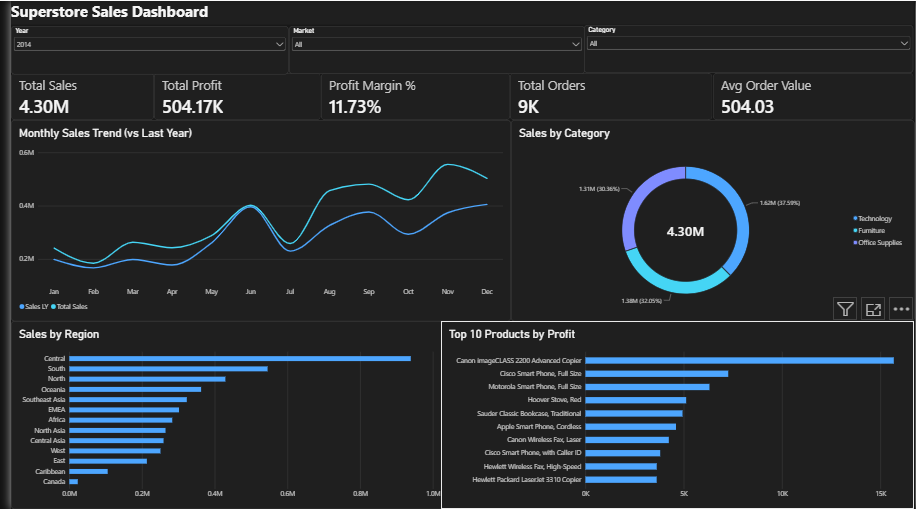

The dashboard page shown, as its layout file describes it:
{"tool":"powerbi","page":{"name":"Page 1","canvas":[1920,1080],"ordinal":0},"visuals":[{"type":"cardVisual","fields":{"Data":["Superstore.Total Sales"]},"box":[0,152.4,304.8,100],"z":0},{"type":"cardVisual","fields":{"Data":["Superstore.Total Orders"]},"box":[1061.9,152.4,431,100],"z":1000},{"type":"cardVisual","fields":{"Data":["Superstore.Avg Order Value"]},"box":[1492.9,152.4,426.2,100],"z":2000},{"type":"cardVisual","fields":{"Data":["Superstore.Profit Margin %"]},"box":[659.5,152.4,402.4,100],"z":3000},{"type":"cardVisual","fields":{"Data":["Superstore.Total Profit"]},"box":[304.8,152.4,354.8,100],"z":4000},{"type":"lineChart","title":"Monthly Sales Trend (vs Last Year)","fields":{"Category":["Dates.Month Name"],"Y":["Superstore.Sales LY","Superstore.Total Sales"]},"box":[0,252.5,1062.5,427.5],"z":5000},{"type":"donutChart","title":"Sales by Category","fields":{"Category":["Superstore.Category"],"Y":["Superstore.Total Sales"]},"box":[1062.5,252.5,857.5,427.5],"z":6000},{"type":"clusteredBarChart","title":"Sales by Region","fields":{"Category":["Superstore.Region"],"Y":["Superstore.Total Sales"]},"box":[0,680,930,400],"z":7000},{"type":"clusteredBarChart","title":"Top 10 Products by Profit","fields":{"Category":["Superstore.Product Name"],"Y":["Superstore.Total Profit"]},"box":[915,680,1005,400],"z":8000},{"type":"slicer","fields":{"Values":["Dates.Year"]},"box":[0,52.4,590,102.5],"z":9000},{"type":"slicer","fields":{"Values":["Superstore.Market"]},"box":[590.5,52.4,628.6,102.4],"z":10000},{"type":"slicer","fields":{"Values":["Superstore.Category"]},"box":[1219,50,700,102.4],"z":11000},{"type":"textbox","box":[0,0,1919,50],"z":11001}]}

Visuals, with their boxes in screenshot pixels (x1, y1, x2, y2), scaled from the page's 1920x1080 canvas onto the 916x509 screenshot:
cardVisual - Superstore.Total Sales: 0, 72, 145, 119
cardVisual - Superstore.Total Orders: 507, 72, 712, 119
cardVisual - Superstore.Avg Order Value: 712, 72, 915, 119
cardVisual - Superstore.Profit Margin %: 315, 72, 507, 119
cardVisual - Superstore.Total Profit: 145, 72, 315, 119
"Monthly Sales Trend (vs Last Year)" lineChart: 0, 119, 507, 320
"Sales by Category" donutChart: 507, 119, 915, 320
"Sales by Region" clusteredBarChart: 0, 320, 444, 508
"Top 10 Products by Profit" clusteredBarChart: 437, 320, 915, 508
slicer - Dates.Year: 0, 25, 281, 73
slicer - Superstore.Market: 282, 25, 582, 73
slicer - Superstore.Category: 582, 24, 915, 72
textbox: 0, 0, 915, 24
